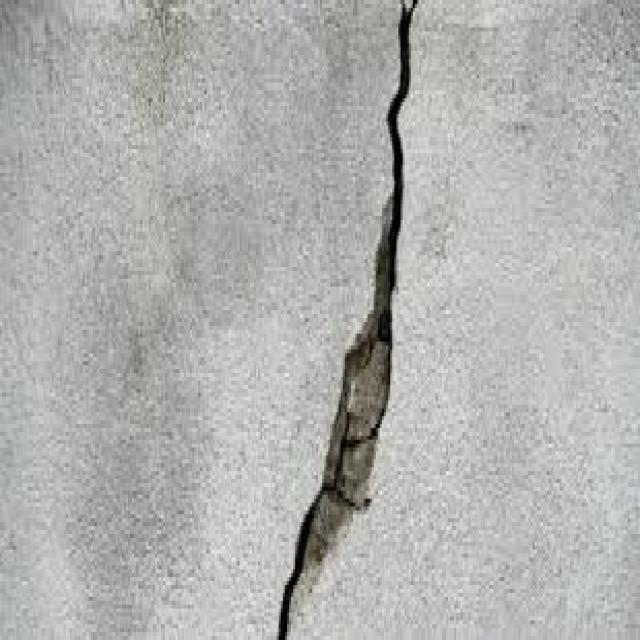Crack: (276, 0, 408, 636)
